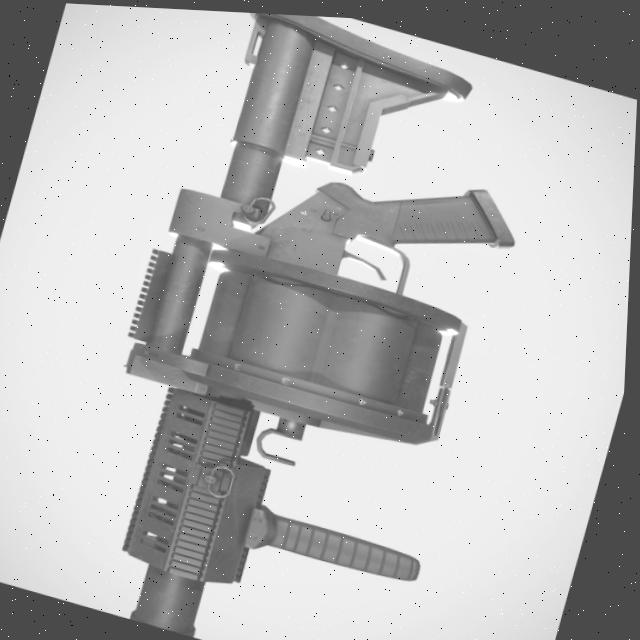rocket: (54, 3, 564, 640)
